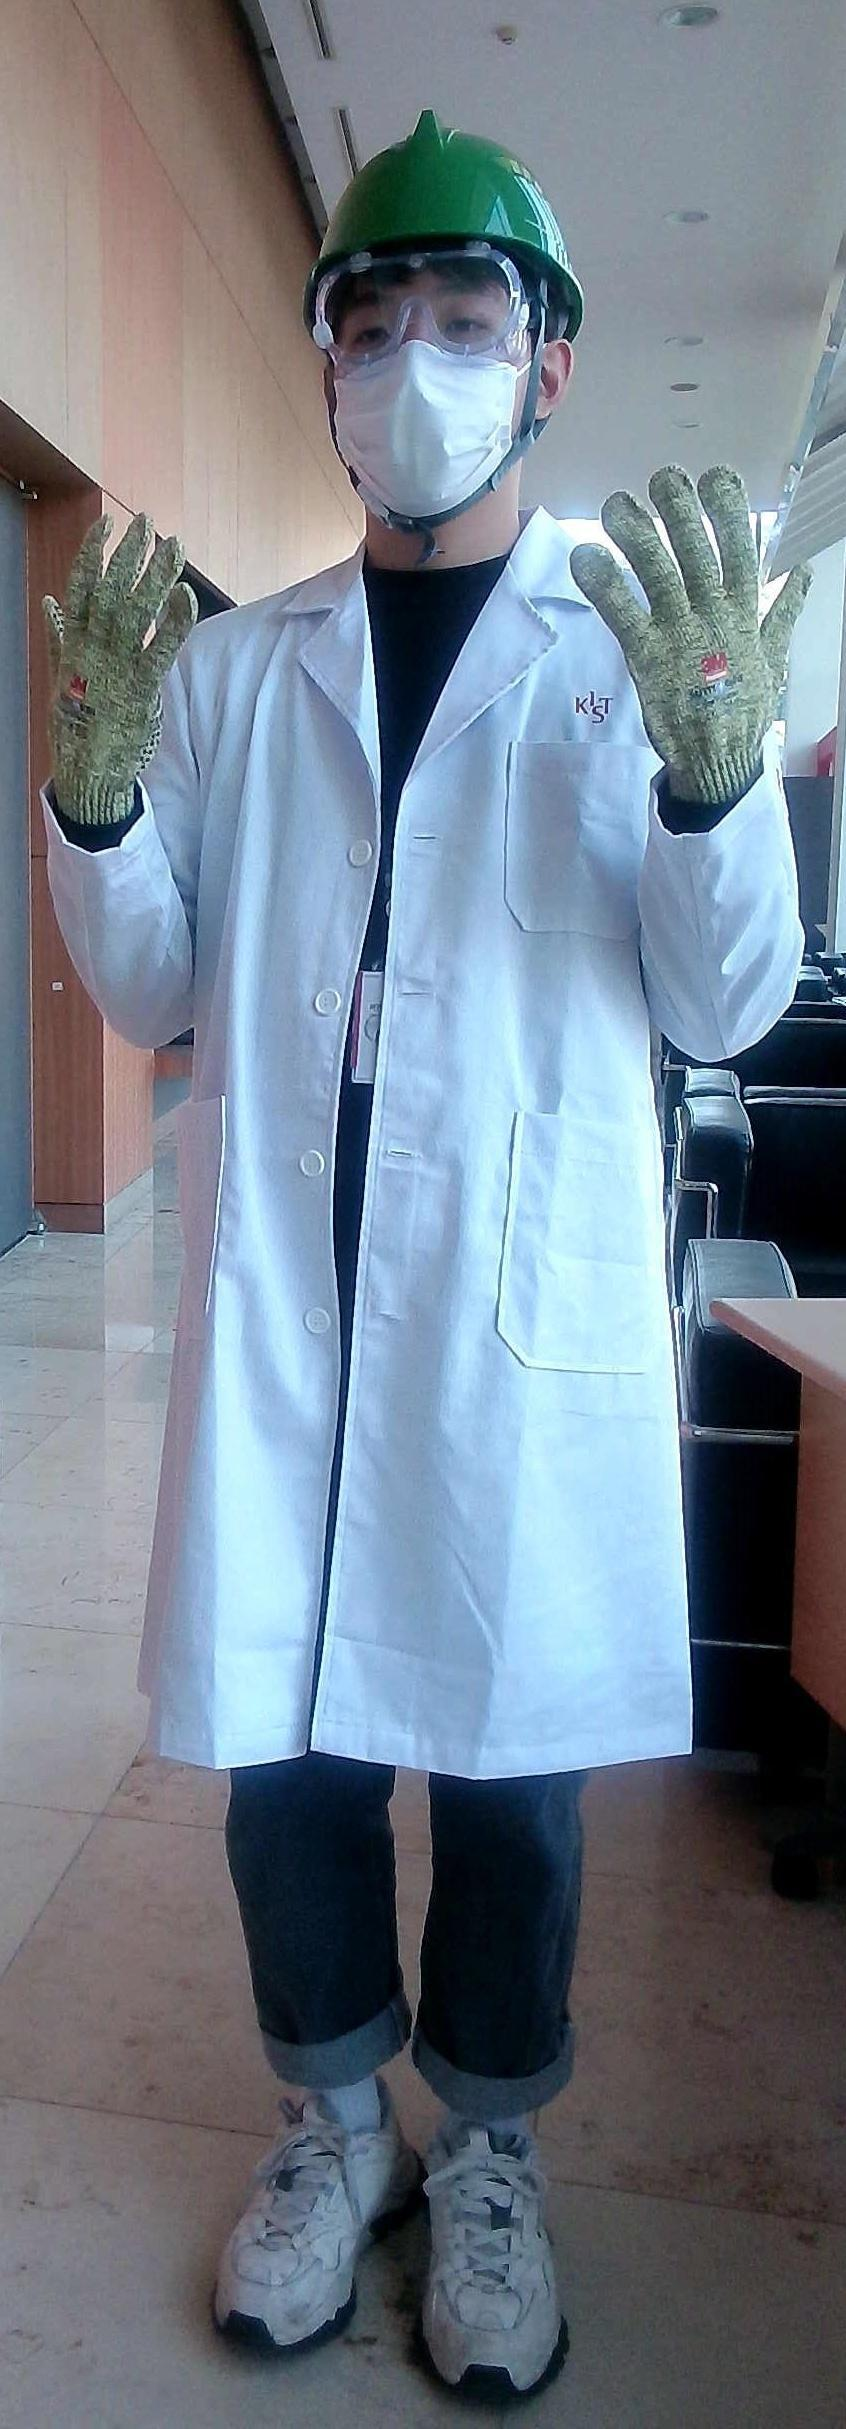lab_coat: (191, 648, 663, 1752)
